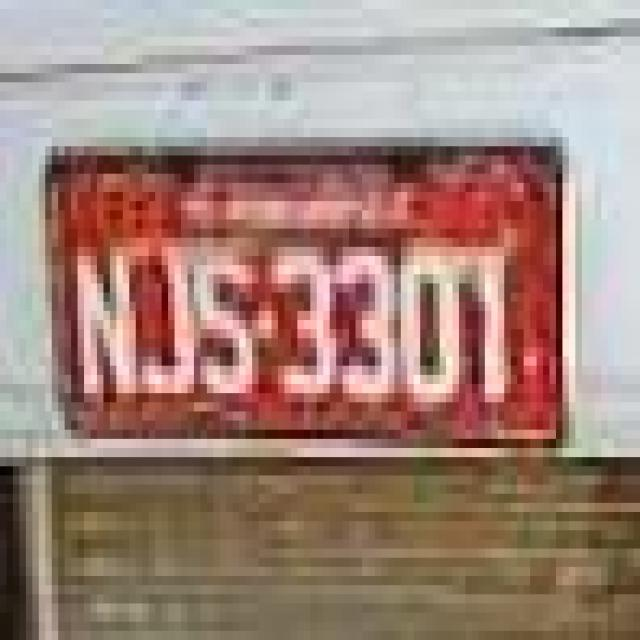0: (402, 234, 466, 426)
1: (466, 234, 519, 422)
3: (264, 230, 340, 419), (336, 225, 400, 428)
J: (134, 236, 193, 397)
N: (72, 232, 142, 406)
S: (184, 228, 265, 408)
